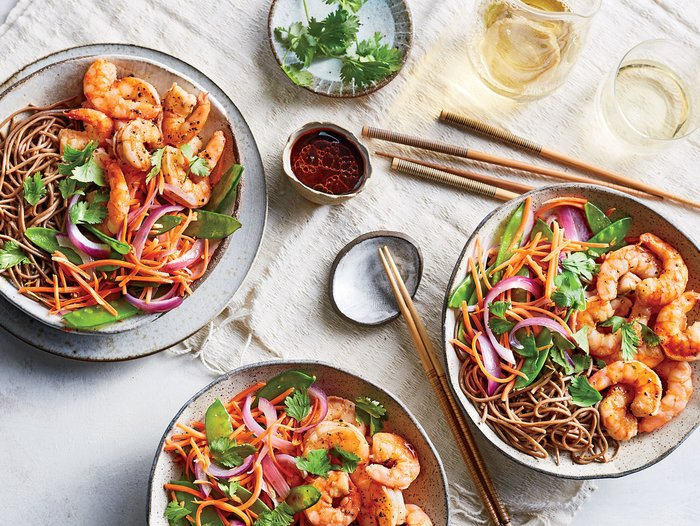Soba: (7, 88, 242, 343), (457, 266, 610, 483)
